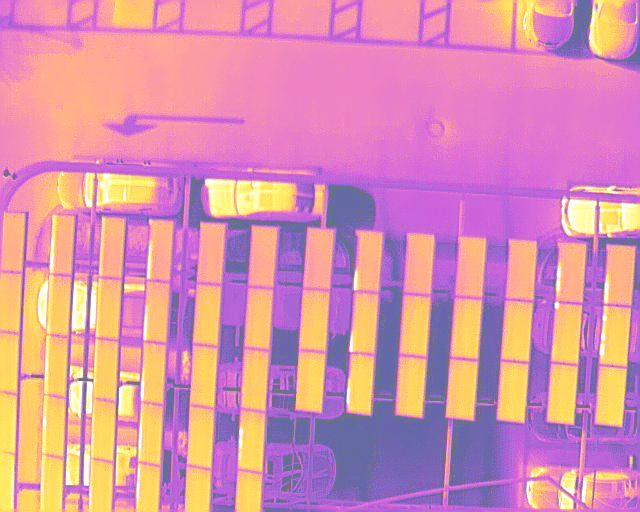Cell: (552, 304, 580, 364)
No-Anomaly: (400, 295, 430, 358), (595, 367, 625, 427), (305, 229, 334, 291), (350, 292, 379, 354), (300, 291, 330, 350), (404, 234, 433, 295), (296, 351, 324, 414), (355, 232, 384, 292), (456, 238, 485, 298), (453, 298, 480, 361), (397, 357, 425, 417), (549, 364, 577, 424), (504, 301, 531, 362), (500, 361, 527, 422), (508, 240, 534, 301), (449, 360, 476, 418), (249, 228, 275, 288), (97, 278, 122, 340), (246, 288, 271, 350), (199, 224, 225, 283), (47, 274, 72, 335), (2, 211, 27, 272), (101, 217, 126, 278), (195, 283, 220, 344), (95, 340, 120, 401), (45, 336, 70, 397), (347, 354, 372, 415), (244, 349, 268, 412), (92, 400, 116, 460), (192, 346, 215, 408), (190, 407, 212, 471), (0, 273, 22, 333), (0, 332, 20, 394)
Unclassified: (601, 306, 629, 366), (605, 246, 632, 306), (558, 243, 585, 303), (145, 281, 170, 343), (50, 215, 75, 275), (43, 396, 67, 458), (148, 221, 172, 282), (239, 410, 263, 471), (142, 343, 165, 406), (139, 404, 162, 464)
